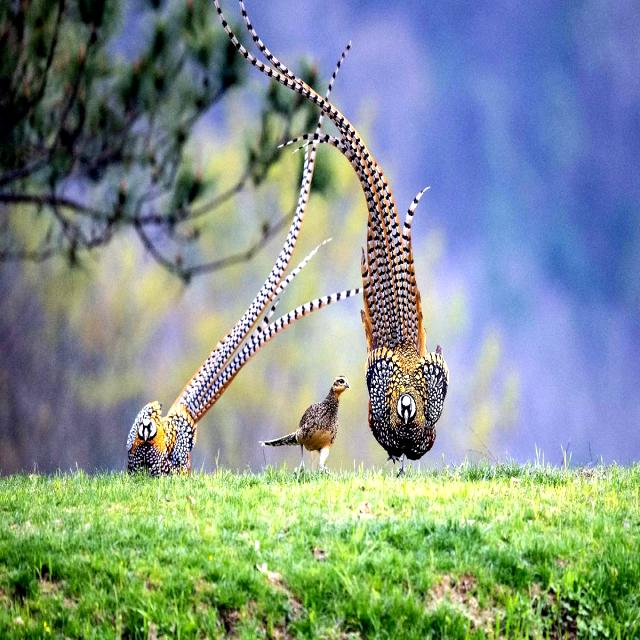Reeves-s Pheasant: (213, 0, 432, 355), (169, 38, 361, 425)
